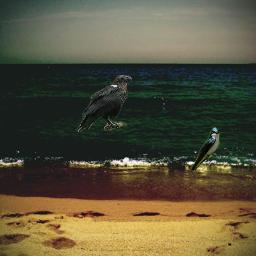Crow: (76, 75, 132, 132)
Swallow: (190, 127, 220, 173)
